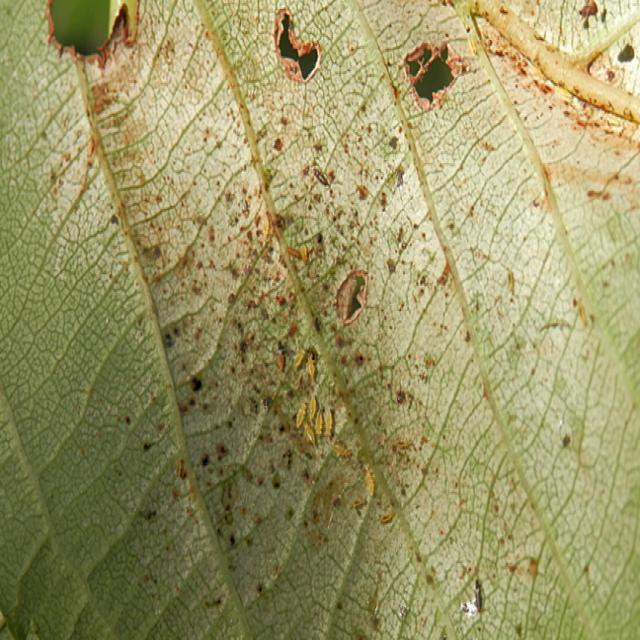Thrip-Group-: (252, 303, 392, 497)
Thrip-Larva-: (322, 402, 336, 438), (294, 396, 308, 429), (307, 389, 318, 426)
